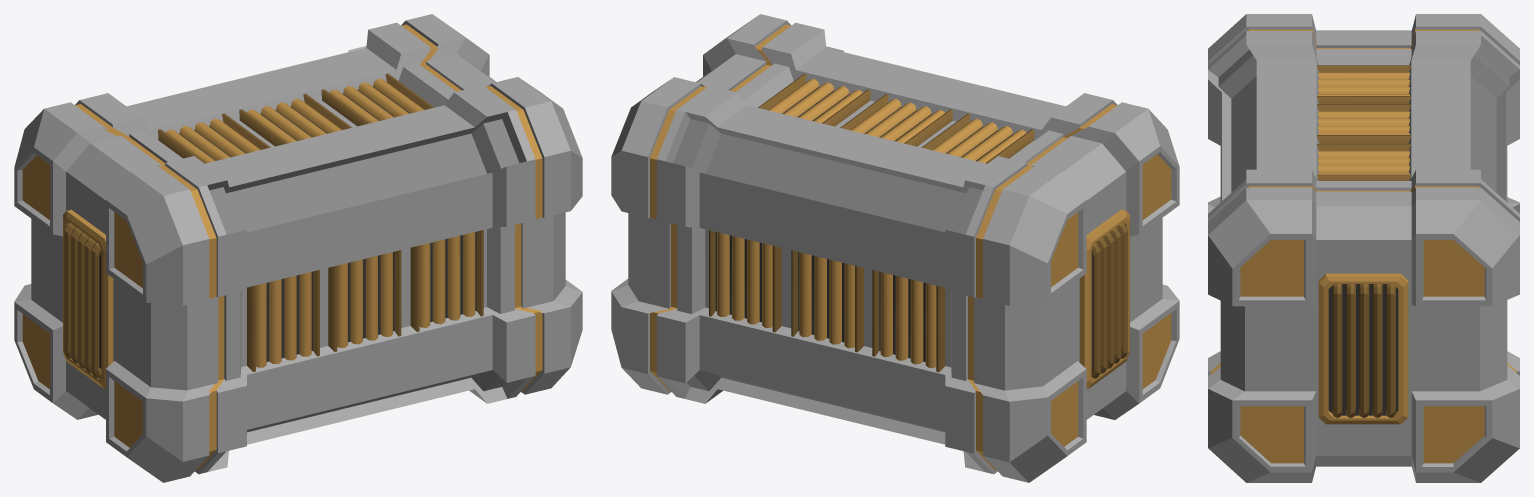
The model's file is Props_CrateLong.gltf.
The picture shows the model from 3 angles, left to right: view 1: azimuth 30°, elevation 25°; view 2: azimuth 150°, elevation 25°; view 3: azimuth 270°, elevation 25°; orthographic projection.
Parts seen in each view (by area): view 1: Props_CrateLong; view 2: Props_CrateLong; view 3: Props_CrateLong.
Boxes of the visible parts, box(x1,y1,x2,y2) form: Props_CrateLong: box(14, 14, 582, 482); Props_CrateLong: box(611, 14, 1179, 482); Props_CrateLong: box(1208, 14, 1519, 482).
Bounding box in the file's own units: 1.23 × 0.7698 × 0.7698.
